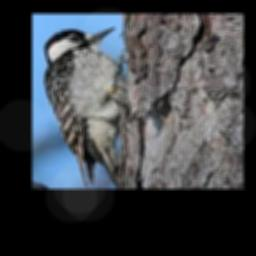Woodpecker: (43, 27, 149, 188)
